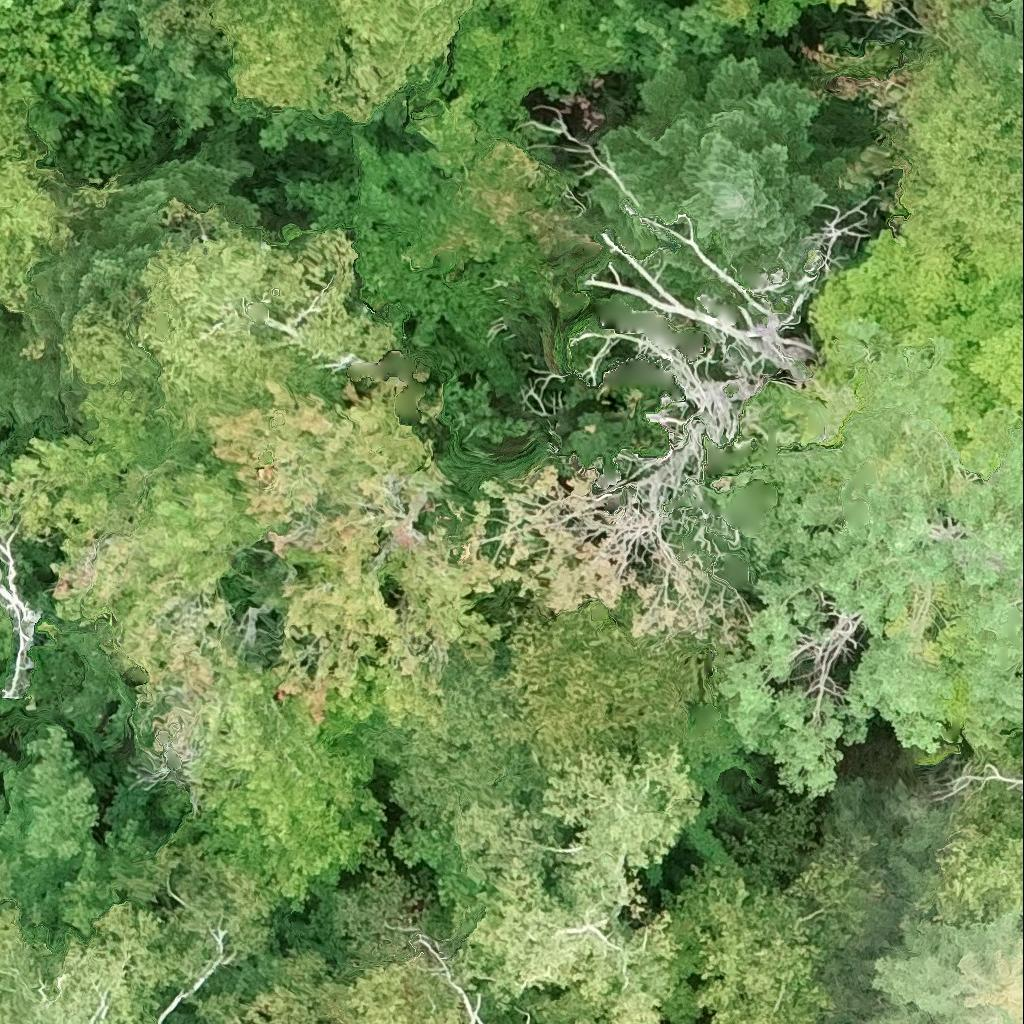crown: (715, 318, 1023, 794), (443, 308, 828, 646), (206, 374, 506, 722), (0, 432, 267, 811), (287, 95, 602, 386), (58, 198, 392, 472), (0, 162, 261, 433), (457, 744, 699, 1023), (596, 55, 825, 292), (175, 667, 383, 912), (815, 218, 1023, 463), (0, 842, 278, 1023), (94, 0, 334, 175), (0, 728, 172, 949), (385, 652, 579, 845), (509, 601, 713, 779), (209, 0, 496, 122), (699, 382, 856, 600), (890, 32, 1023, 280), (696, 854, 872, 1023), (0, 87, 103, 311), (6, 0, 138, 147), (871, 905, 1023, 1023), (926, 783, 1023, 925), (390, 809, 484, 939), (962, 326, 1023, 464), (348, 965, 482, 1023), (0, 535, 44, 699), (952, 0, 1023, 84), (0, 0, 31, 111), (710, 0, 814, 33), (0, 859, 19, 925), (833, 0, 882, 14), (0, 300, 6, 328), (1016, 915, 1023, 933), (1016, 204, 1023, 222)
